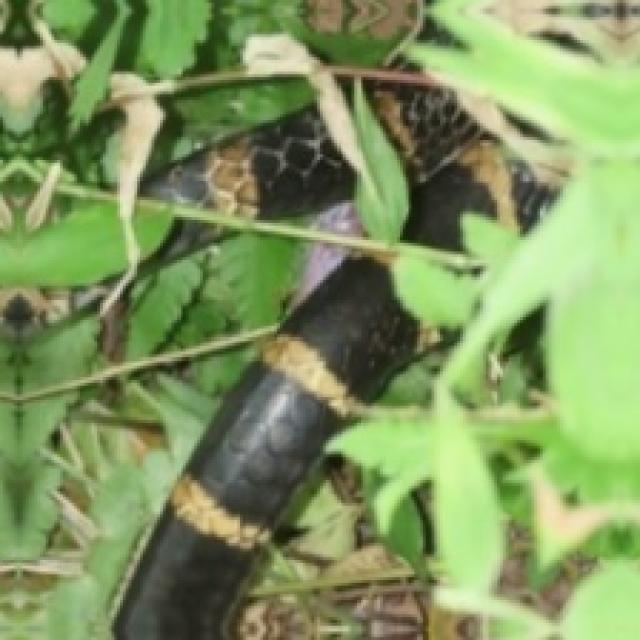king cobra: (114, 254, 414, 637), (317, 74, 406, 234)
